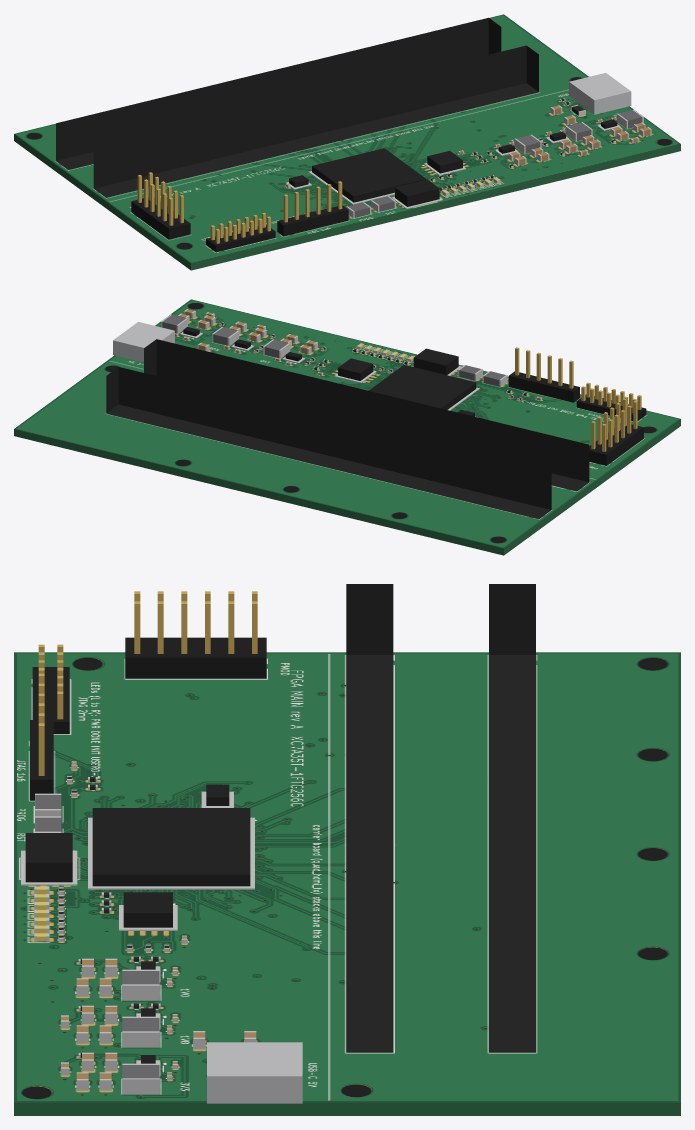
File: fpga_main_simplified.obj
3 renders of one model, top to bottom at view 1: azimuth 30°, elevation 25°; view 2: azimuth 150°, elevation 25°; view 3: azimuth 270°, elevation 25°, orthographic. The views are drawn at different scales.
Bounding box in the file's own units: 115 × 11.72 × 72.
